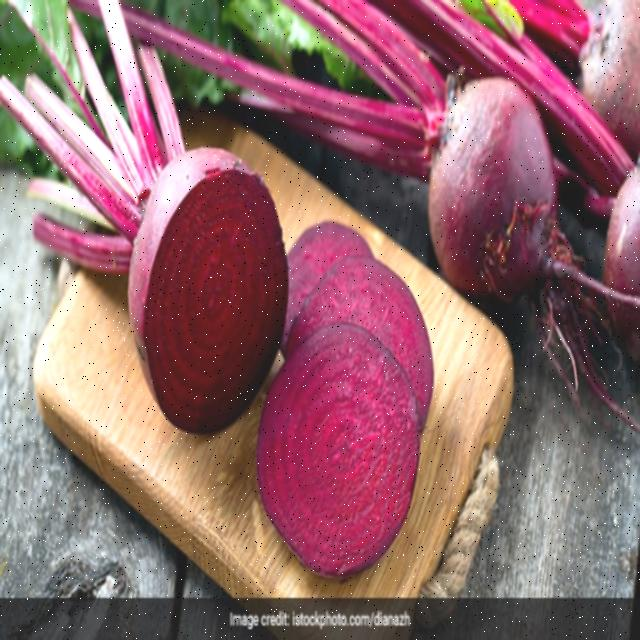Beetroot: (271, 206, 429, 556), (101, 125, 280, 419), (396, 41, 580, 303)
